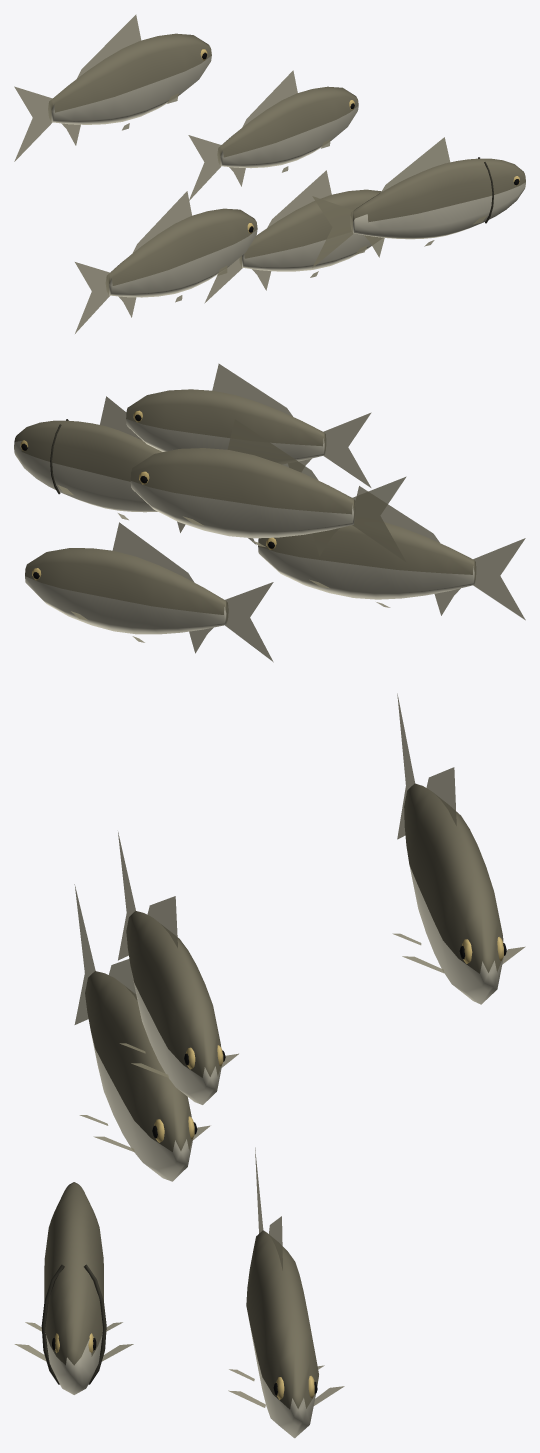
The model's file is lake-karas-shallows-0.glb.
3 views of the same model, one above another, from view 1: azimuth 30°, elevation 25°; view 2: azimuth 150°, elevation 25°; view 3: azimuth 270°, elevation 25° (orthographic). The views are drawn at different scales.
Visible parts, largest first — view 1: lake-karas-shallows-0; view 2: lake-karas-shallows-0; view 3: lake-karas-shallows-0.
Boxes of the visible parts, left/top/right/bottom form: lake-karas-shallows-0: left=14, top=14, right=525, bottom=333; lake-karas-shallows-0: left=14, top=363, right=525, bottom=662; lake-karas-shallows-0: left=14, top=693, right=525, bottom=1438.
Size of the model in its own units: 0.5505 by 0.3068 by 0.2788.
